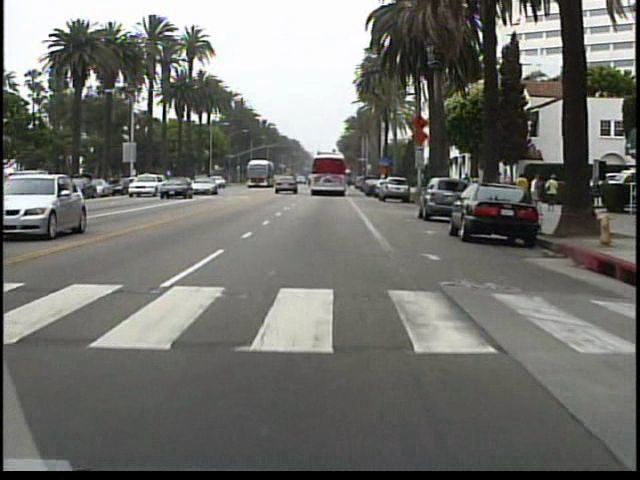person: (460, 173, 473, 203)
